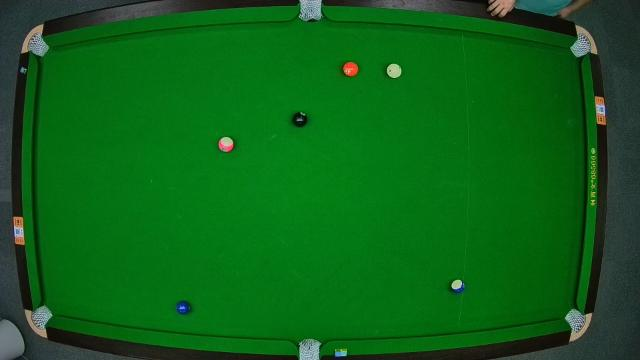bag1: (27, 35, 47, 57)
bag2: (300, 0, 322, 22)
bag3: (574, 36, 592, 58)
bag4: (32, 307, 49, 327)
bag5: (300, 340, 322, 360)
bag6: (568, 309, 584, 331)
ball0: (386, 62, 402, 80)
ball10: (450, 278, 466, 294)
ball12: (218, 136, 236, 154)
ball2: (176, 300, 192, 316)
ball5: (342, 61, 360, 77)
ball8: (294, 112, 308, 126)
